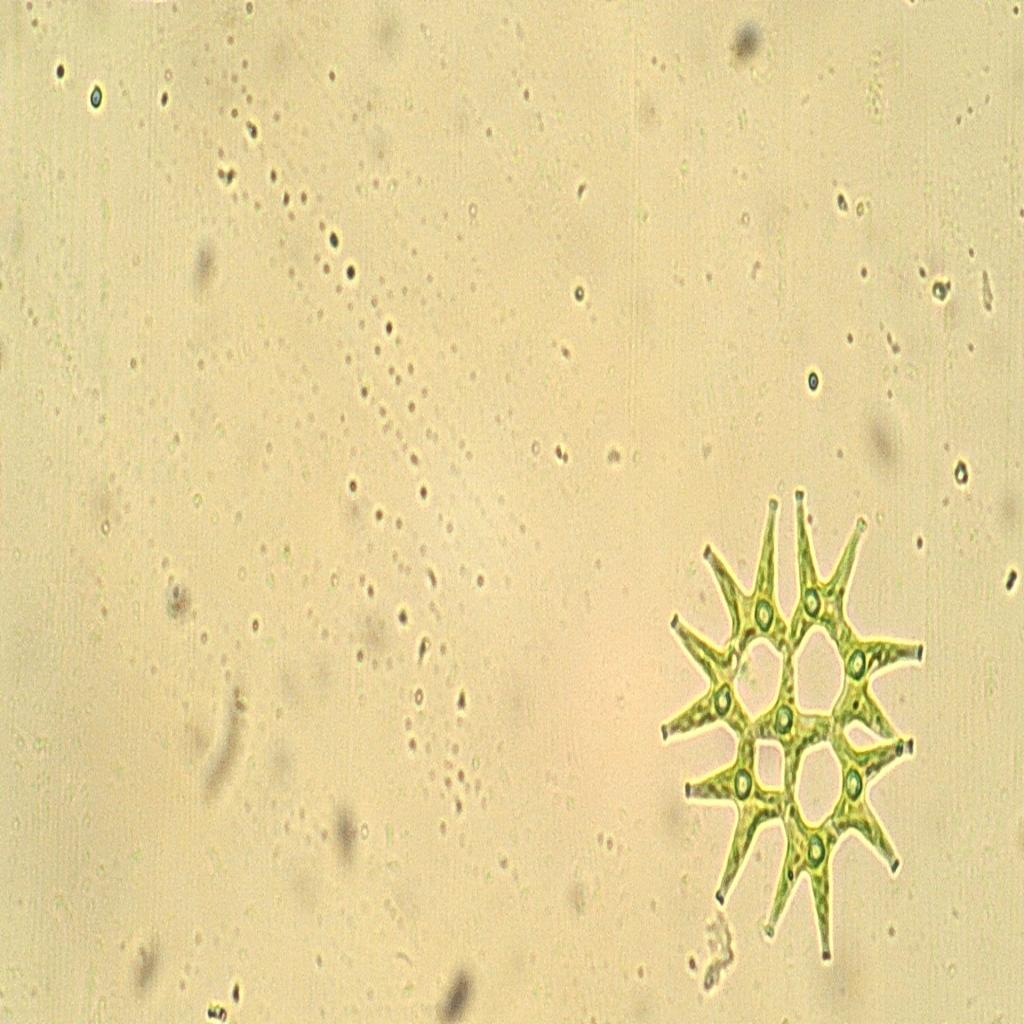Pediastrum_CTH: (652, 437, 930, 982)
